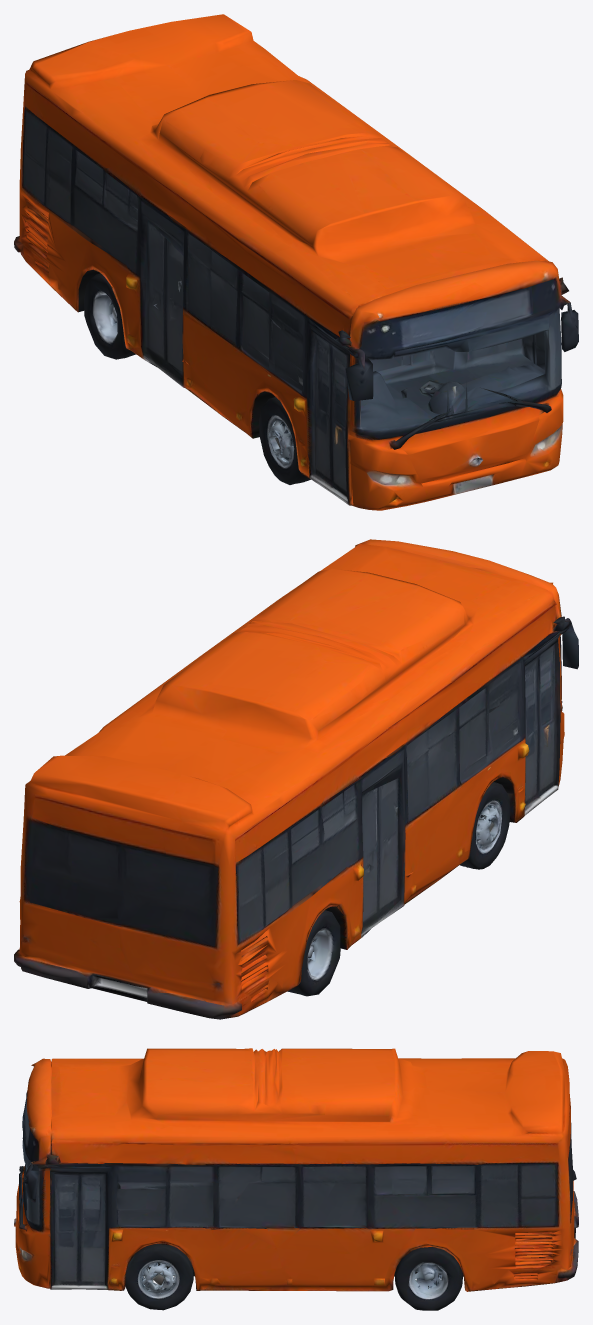
File: city_bus.glb
The picture shows the model from 3 angles, top to bottom: view 1: azimuth 30°, elevation 25°; view 2: azimuth 150°, elevation 25°; view 3: azimuth 270°, elevation 25°; orthographic projection. The views are drawn at different scales.
Visible parts, largest first — view 1: tripo_node_0767f462-470e-49e4-9de6-4885aaa09f4b; view 2: tripo_node_0767f462-470e-49e4-9de6-4885aaa09f4b; view 3: tripo_node_0767f462-470e-49e4-9de6-4885aaa09f4b.
Boxes of the visible parts, x1,y1,x2,y2 form: tripo_node_0767f462-470e-49e4-9de6-4885aaa09f4b: (14, 14, 578, 510); tripo_node_0767f462-470e-49e4-9de6-4885aaa09f4b: (14, 539, 578, 1019); tripo_node_0767f462-470e-49e4-9de6-4885aaa09f4b: (14, 1048, 578, 1310).
Size of the model in its own units: 3.05 by 3.2 by 8.12.
Materials: 1 (1 with a texture image).
